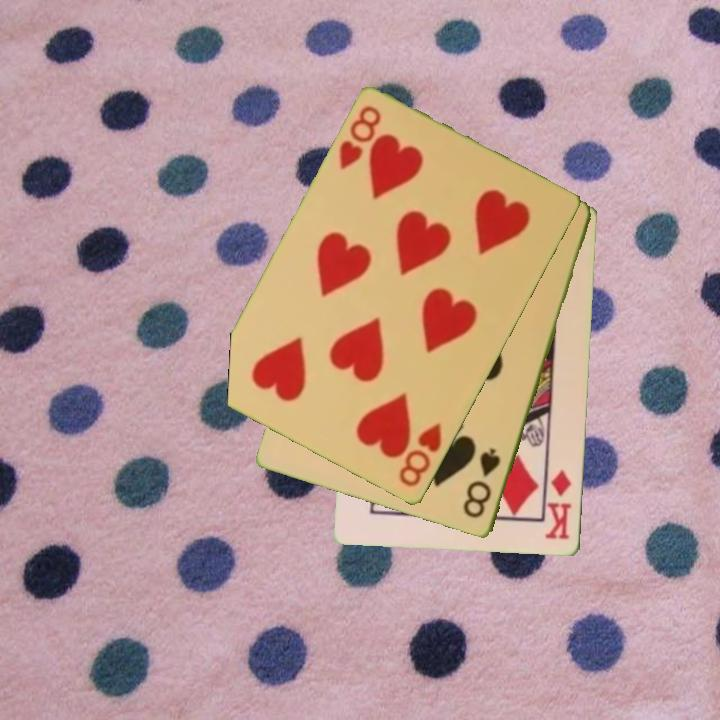8h: (395, 419, 445, 491), (335, 102, 384, 174)
8s: (460, 445, 504, 522)
Kd: (542, 467, 575, 543)
